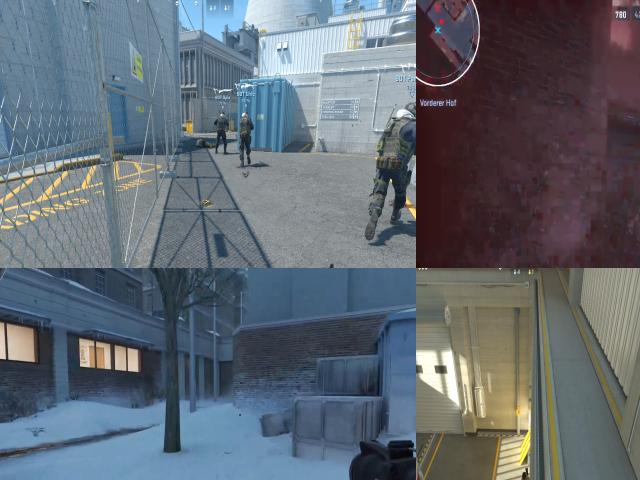Bomb: (200, 197, 213, 208)
CT: (374, 97, 416, 226), (240, 111, 251, 165), (216, 110, 227, 153)
CT-Head: (399, 101, 416, 117), (220, 110, 226, 118), (241, 111, 248, 117)
Dead: (197, 137, 215, 150)
T-Head: (522, 473, 528, 480)
